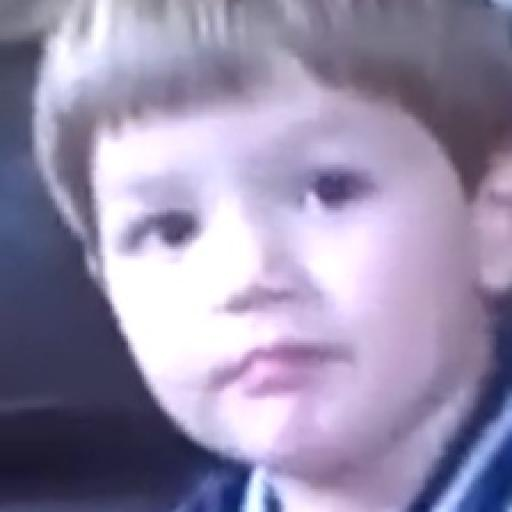Autism: (34, 18, 512, 457)
